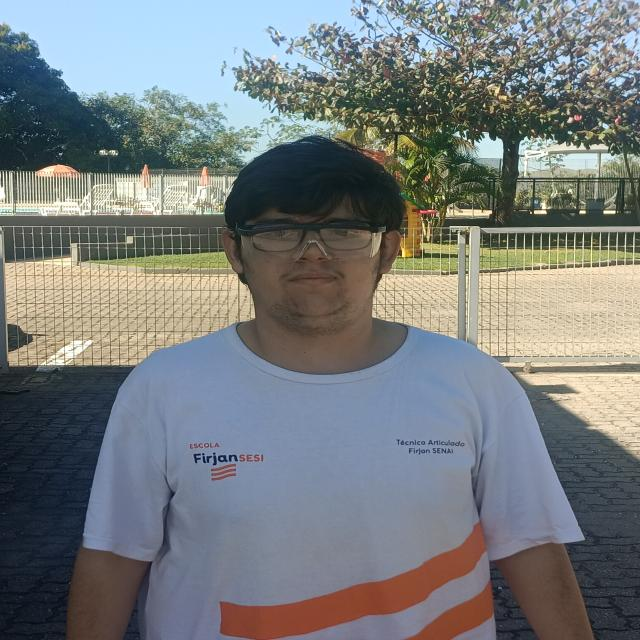oculos-epi: (235, 223, 385, 262)
